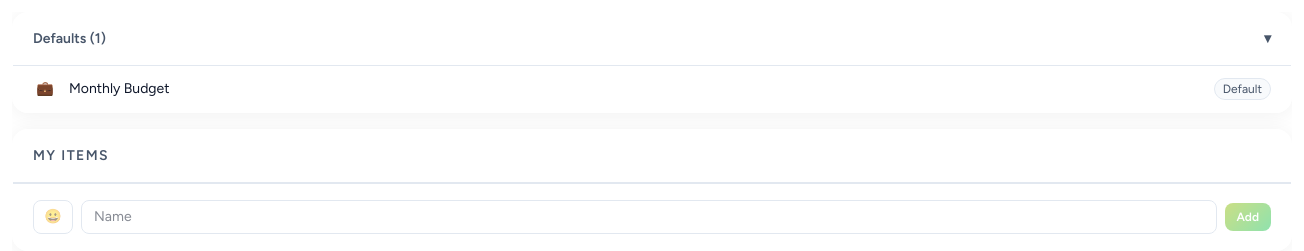
Test: BudgetDataTab — defaults section › expands defaults section again on second toggle
What coordinates should you click on to do the following:
click the button "Defaults (1) ▾"
I would click on:
 (64, 38)
Its box is [13,13,1291,65].
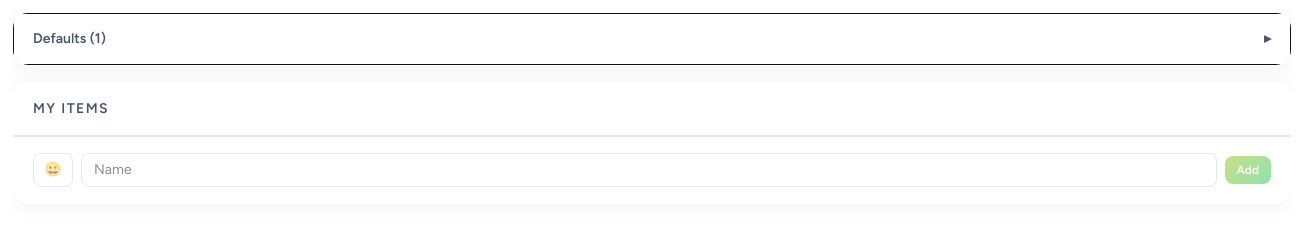
What coordinates should you click on to do the following:
click the button "Defaults (1) ▸"
I would click on:
 (64, 38)
Its box is [13,13,1291,65].
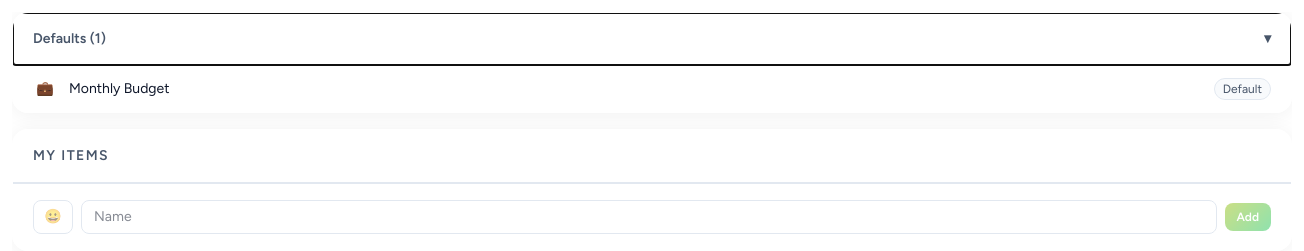
Check: the text "Monthly Budget" is shown, box [69,80,170,97]
